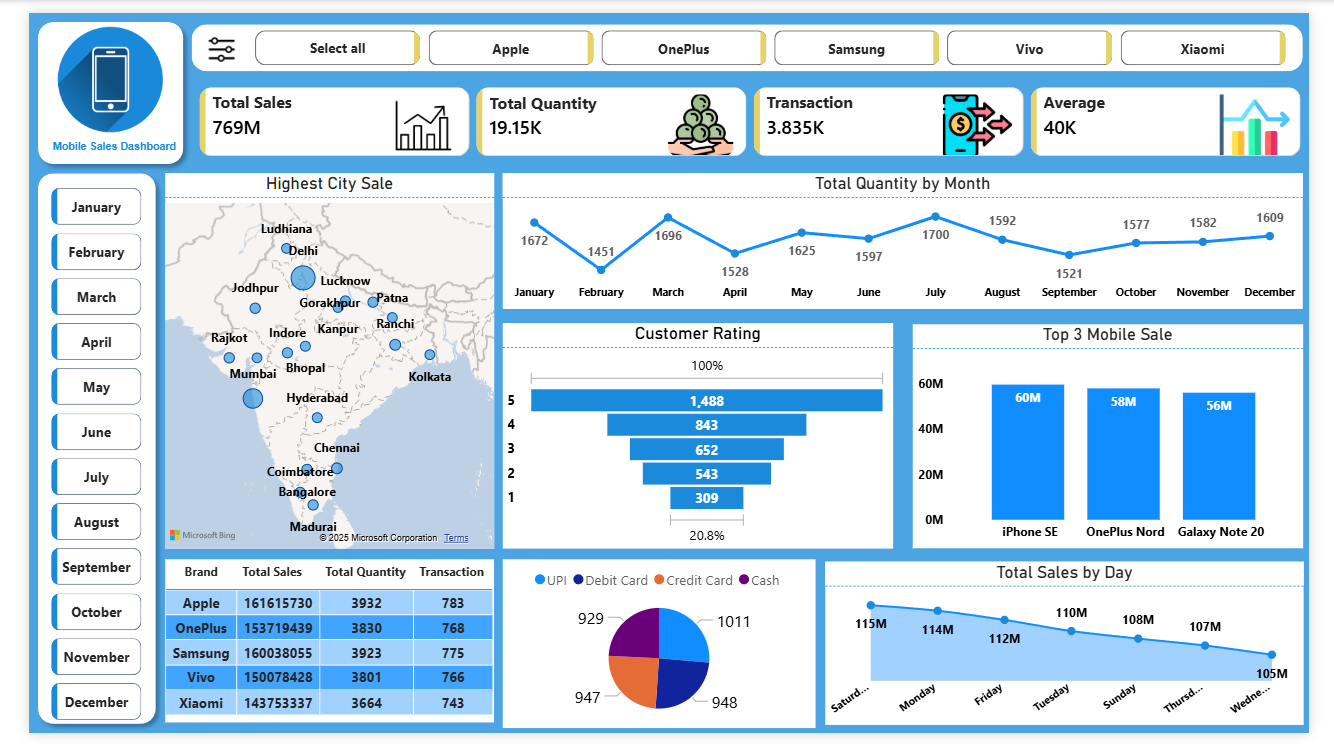

The page's visual inventory and layout, read from the dashboard file:
{"tool":"powerbi","page":{"name":"Page 1","canvas":[1280,720],"ordinal":0},"visuals":[{"type":"shape","box":[0,0,163.1,160],"z":0,"group":"g1"},{"type":"image","box":[12.4,14,138.1,105.4],"z":1000,"group":"g1"},{"type":"shape","box":[0,151.4,135.7,568.6],"z":2000},{"type":"advancedSlicerVisual","fields":{"Values":["Sales Data.Date .Variation.Date Hierarchy.Month"]},"box":[17.1,170,100,550],"z":3000},{"type":"cardVisual","fields":{"Data":["Sales Data.Total Sales","Sales Data.Total Quantity","Sales Data.Transaction","Sales Data.Average"]},"box":[162.9,65.7,1117.1,85.7],"z":4000},{"type":"map","title":"Highest City Sale","fields":{"Category":["Sales Data.City"],"Size":["Sales Data.Total Sales"]},"box":[135.7,160,328.6,375.7],"z":5000},{"type":"lineChart","fields":{"Y":["Sales Data.Total Quantity"],"Category":["Sales Data.Date .Variation.Date Hierarchy.Month","Sales Data.Date .Variation.Date Hierarchy.Day"]},"box":[474.3,160,800,135.7],"z":6000},{"type":"clusteredColumnChart","title":"Top 3 Mobile Sale","fields":{"Category":["Sales Data.Mobile Model"],"Y":["Sales Data.Total Sales"]},"box":[884.3,311.4,390,224.3],"z":7000},{"type":"pieChart","fields":{"Y":["Sales Data.Transaction"],"Category":["Sales Data.Payment Method"]},"box":[474.3,545.7,312.9,168.6],"z":8000},{"type":"funnel","title":"Customer Rating","fields":{"Category":["Sales Data.Customer Ratings"],"Y":["CountNonNull(Sales Data.Customer Ratings)"]},"box":[474.3,310,390,225.7],"z":9000},{"type":"areaChart","title":"Total Sales by Day","fields":{"Y":["Sales Data.Total Sales"],"Category":["Sales Data.Day Name"]},"box":[795.7,548.6,478.6,162.9],"z":10000},{"type":"tableEx","fields":{"Values":["Sales Data.Brand","Sales Data.Total Sales","Sales Data.Total Quantity","Sales Data.Transaction"]},"box":[135.7,545.7,328.6,162.9],"z":11000},{"type":"textbox","box":[6.9,118.1,158.8,33],"z":12000,"group":"g1"},{"type":"shape","box":[162.9,11.4,1111.4,47.1],"z":13000},{"type":"image","box":[177.1,15.7,30,40],"z":14000},{"type":"advancedSlicerVisual","fields":{"Values":["Sales Data.Brand"]},"box":[221.4,12.9,1042.9,45.7],"z":15000},{"type":"group","id":"g1","title":"Group 1","box":[0,0,165.7,160],"z":18001}]}

Visuals, with their boxes in screenshot pixels (x1, y1, x2, y2), scaled from the page's 1280x720 canvas onto the 1334x744 screenshot:
shape: <region>0, 0, 170, 165</region>
image: <region>13, 14, 157, 123</region>
shape: <region>0, 156, 141, 743</region>
advancedSlicerVisual - Sales Data.Date .Variation.Date Hierarchy.Month: <region>18, 176, 122, 743</region>
cardVisual - Sales Data.Total Sales x Sales Data.Total Quantity: <region>170, 68, 1333, 156</region>
"Highest City Sale" map: <region>141, 165, 484, 554</region>
lineChart - Sales Data.Total Quantity x Sales Data.Date .Variation.Date Hierarchy.Month: <region>494, 165, 1328, 306</region>
"Top 3 Mobile Sale" clusteredColumnChart: <region>922, 322, 1328, 554</region>
pieChart - Sales Data.Transaction x Sales Data.Payment Method: <region>494, 564, 820, 738</region>
"Customer Rating" funnel: <region>494, 320, 901, 554</region>
"Total Sales by Day" areaChart: <region>829, 567, 1328, 735</region>
tableEx - Sales Data.Brand x Sales Data.Total Sales: <region>141, 564, 484, 732</region>
textbox: <region>7, 122, 173, 156</region>
shape: <region>170, 12, 1328, 60</region>
image: <region>185, 16, 216, 58</region>
advancedSlicerVisual - Sales Data.Brand: <region>231, 13, 1318, 61</region>
"Group 1" group: <region>0, 0, 173, 165</region>
